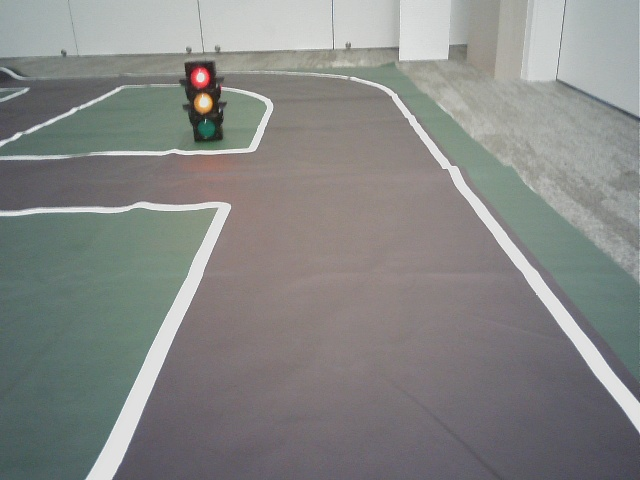red: (186, 65, 220, 138)
